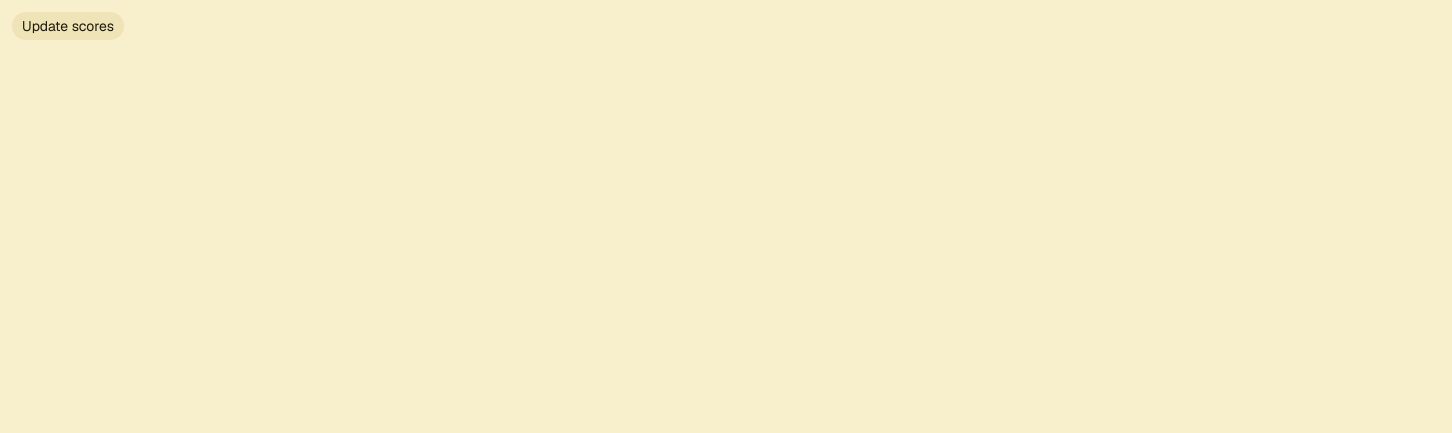
Scenario: InlineRatingEditor marks itself open (R65) › carries the mark only while open
Click the button "Update scores" at (68, 26), box [12,12,124,40]
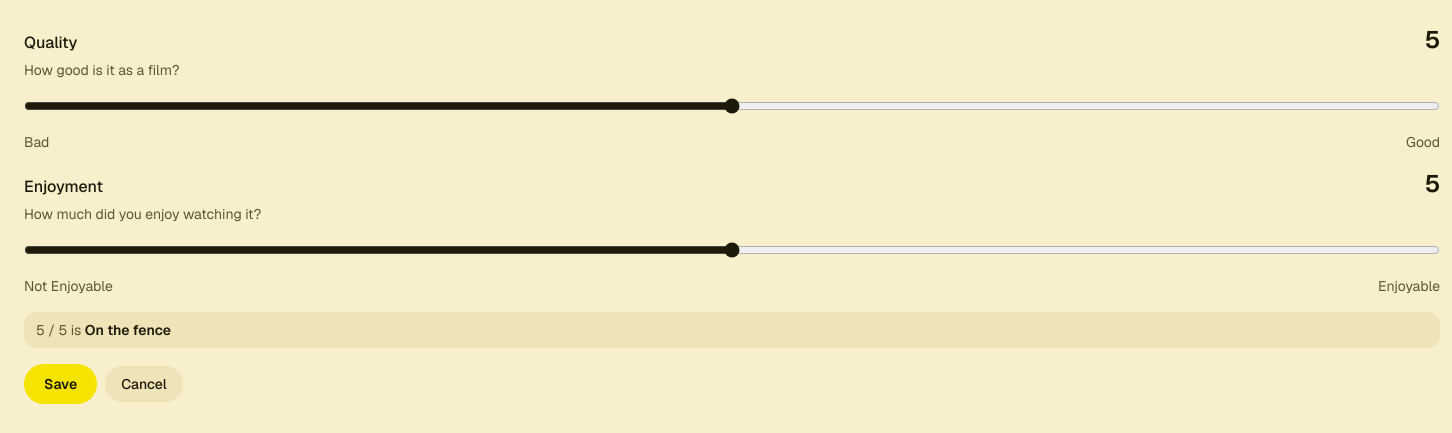
Expected: the form is shown
